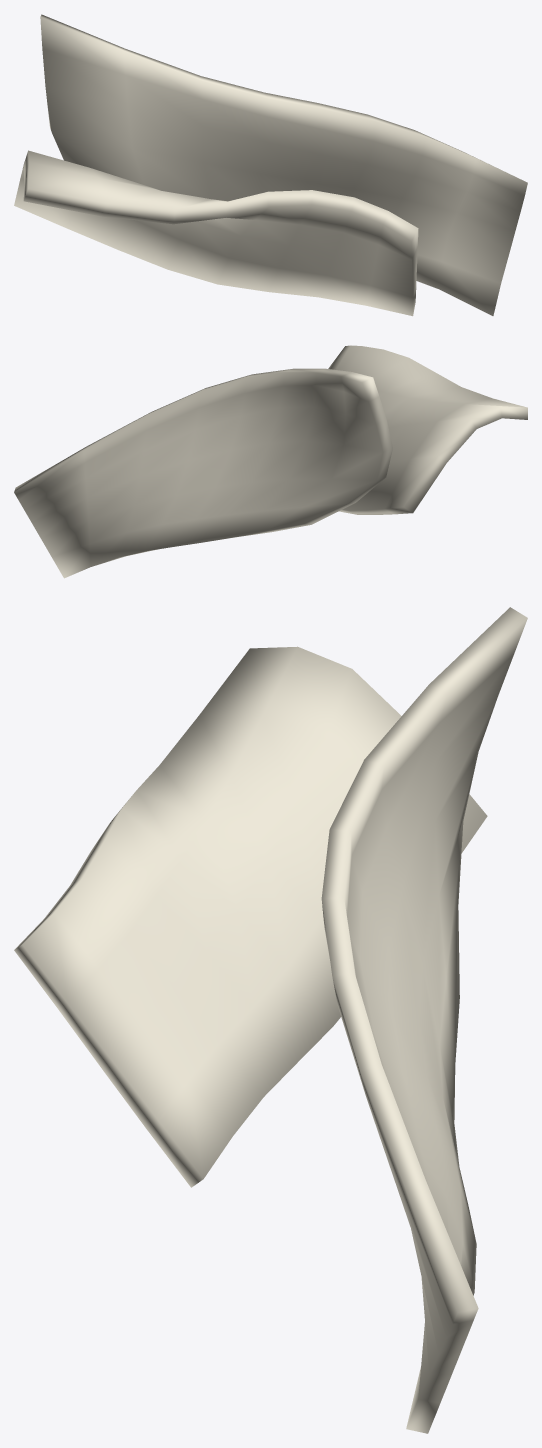
The picture shows the model from 3 angles, top to bottom: view 1: azimuth 30°, elevation 25°; view 2: azimuth 150°, elevation 25°; view 3: azimuth 270°, elevation 25°; orthographic projection. The views are drawn at different scales.
Visible parts, largest first — view 1: ZA_1d1dfc442d98366d; view 2: ZA_1d1dfc442d98366d; view 3: ZA_1d1dfc442d98366d.
Boxes of the visible parts, x1,y1,x2,y2 form: ZA_1d1dfc442d98366d: (14,14,527,316); ZA_1d1dfc442d98366d: (14,345,527,578); ZA_1d1dfc442d98366d: (14,607,527,1433).
Size of the model in its own units: 0.021 by 0.0131 by 0.0114.
